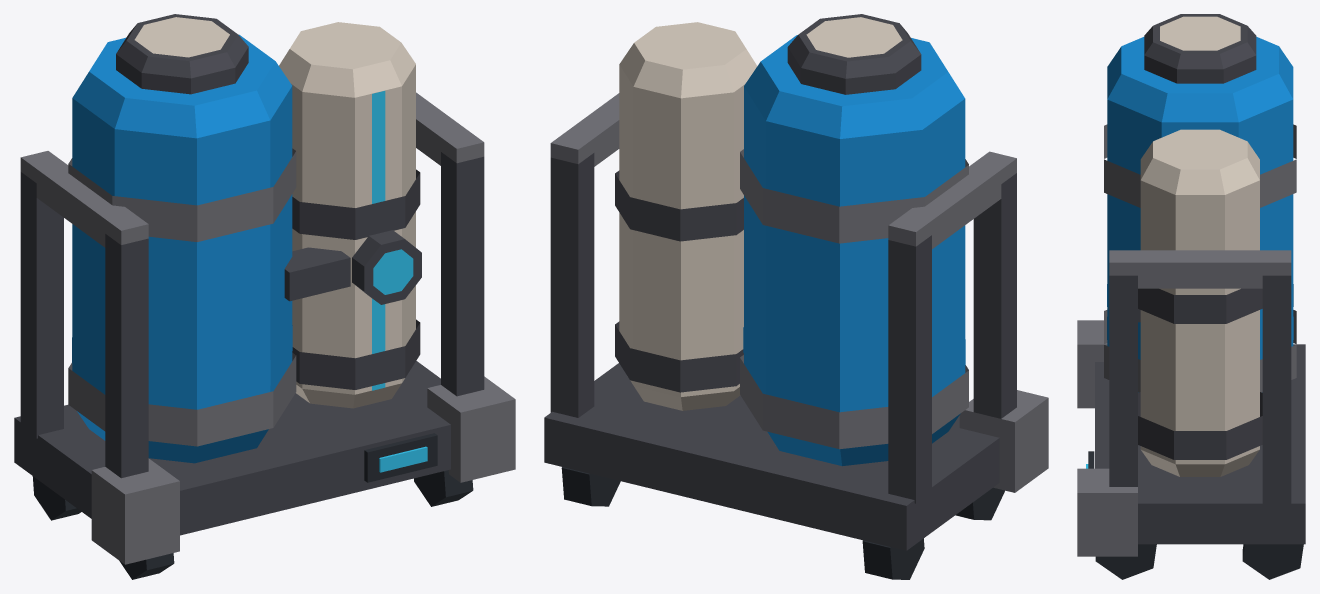
Rendered from water.glb.
3 views of the same model, side by side, from view 1: azimuth 30°, elevation 25°; view 2: azimuth 150°, elevation 25°; view 3: azimuth 270°, elevation 25° (orthographic). The views are drawn at different scales.
Visible parts, largest first — view 1: Support_Frame, Main_Vessel, Auxiliary_Vessel, Main_Strap, Main_Strap.001, Fill_Cap, Lower_Colour_Band, Auxiliary_Strap.001, Auxiliary_Strap, Tap_Bridge, Cap_Inset, Tap_Valve (+7 smaller); view 2: Support_Frame, Main_Vessel, Auxiliary_Vessel, Main_Strap, Main_Strap.001, Fill_Cap, Lower_Colour_Band, Auxiliary_Strap.001, Auxiliary_Strap, Cap_Inset, Wheel.001, Wheel.003 (+1 smaller); view 3: Support_Frame, Auxiliary_Vessel, Main_Vessel, Fill_Cap, Auxiliary_Strap, Auxiliary_Strap.001, Main_Strap.001, Cap_Inset, Wheel.003, Wheel.002, Main_Strap, Lower_Colour_Band.
Boxes of the visible parts, x1,y1,x2,y2 form: Support_Frame: (14, 92, 515, 564); Main_Vessel: (72, 34, 292, 463); Auxiliary_Vessel: (279, 22, 415, 408); Main_Strap: (68, 353, 296, 446); Main_Strap.001: (68, 148, 296, 241); Fill_Cap: (116, 14, 248, 94); Lower_Colour_Band: (72, 325, 292, 403); Auxiliary_Strap.001: (292, 169, 420, 239); Auxiliary_Strap: (292, 319, 420, 389); Tap_Bridge: (284, 247, 350, 301); Cap_Inset: (134, 17, 229, 57); Tap_Valve: (352, 230, 421, 304); Support_Frame: (544, 93, 1048, 550); Main_Vessel: (744, 35, 965, 466); Auxiliary_Vessel: (619, 22, 757, 410); Main_Strap: (740, 355, 968, 449); Main_Strap.001: (740, 149, 968, 243); Fill_Cap: (787, 14, 921, 94); Lower_Colour_Band: (743, 327, 965, 405); Auxiliary_Strap.001: (615, 170, 743, 241); Auxiliary_Strap: (615, 321, 743, 392); Cap_Inset: (806, 17, 902, 57); Wheel.001: (862, 538, 924, 579); Wheel.003: (561, 467, 620, 506); Support_Frame: (1077, 250, 1305, 556); Auxiliary_Vessel: (1140, 129, 1259, 476); Main_Vessel: (1107, 36, 1293, 392); Fill_Cap: (1144, 14, 1256, 83); Auxiliary_Strap: (1138, 392, 1262, 459); Auxiliary_Strap.001: (1138, 288, 1262, 323); Main_Strap.001: (1104, 124, 1296, 207); Cap_Inset: (1160, 16, 1240, 50); Wheel.003: (1242, 544, 1303, 579); Wheel.002: (1095, 544, 1156, 579); Main_Strap: (1104, 310, 1296, 392); Lower_Colour_Band: (1107, 284, 1293, 353).
Bounding box in the file's own units: 1.28 × 1.53 × 0.715.
